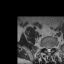CCS_normal: (48, 45, 49, 53)
LFS_normal: (51, 44, 53, 49)
LLS_normal: (49, 45, 51, 52)
RFS_stenosis: (44, 44, 46, 50)
RLS_normal: (46, 45, 47, 52)
